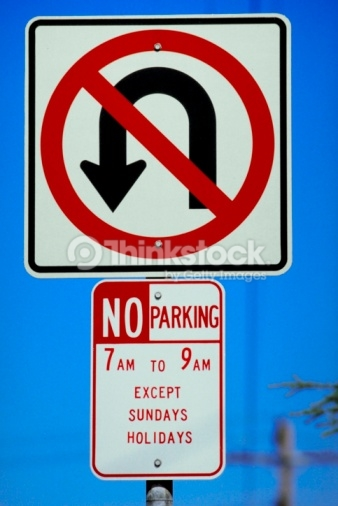No_u_turn: (40, 31, 275, 260)
